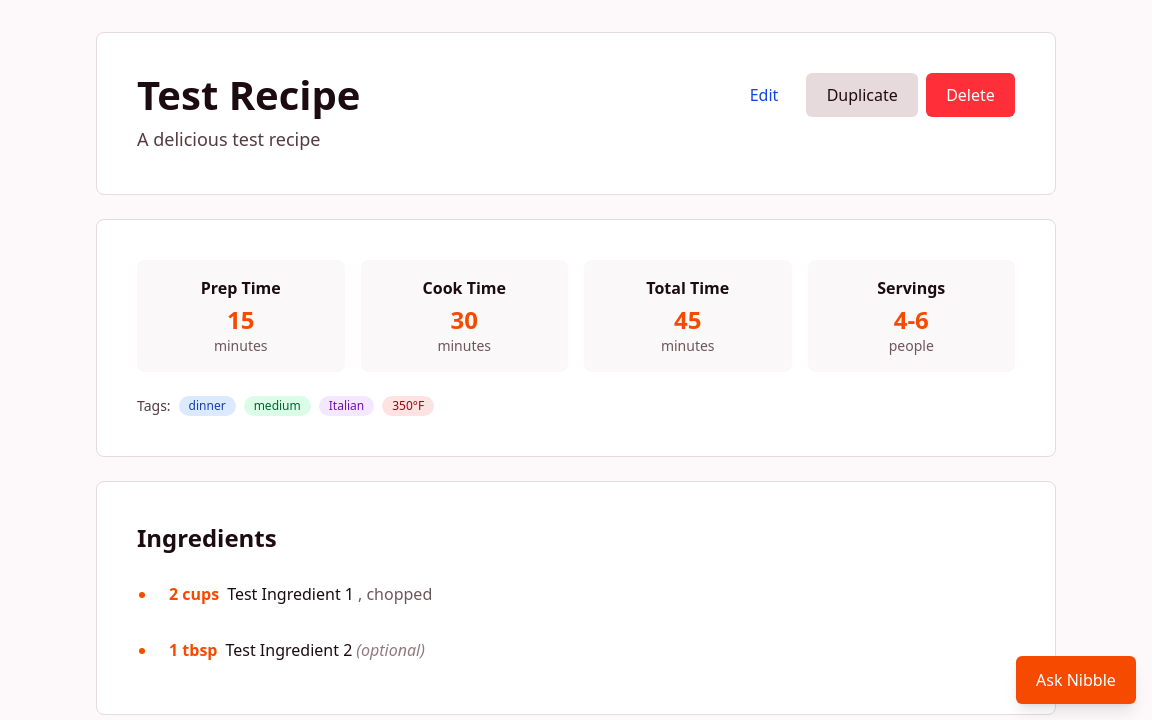
Test case: RecipesDetail › shows loading state when duplicating
(page scrolled)
Click the button with aria-label "duplicate test recipe" at x=862, y=95, box [806,73,918,117]
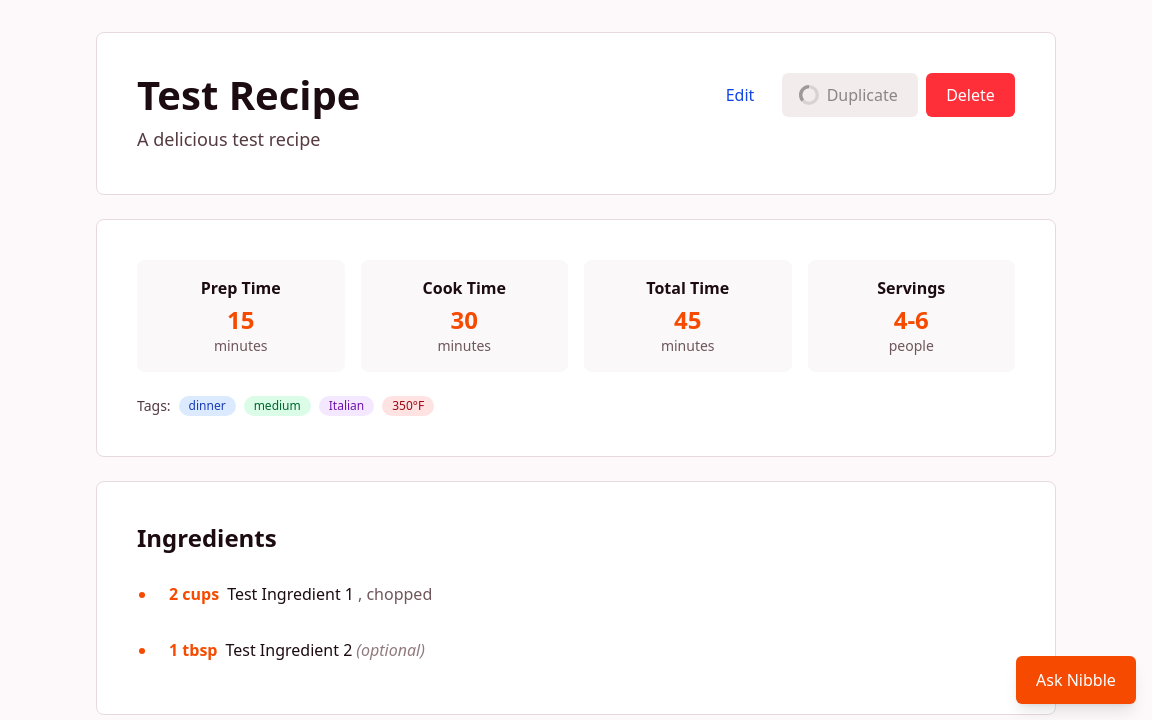
Result: the button with aria-label "duplicate test recipe" is disabled at [782,73,918,117]
